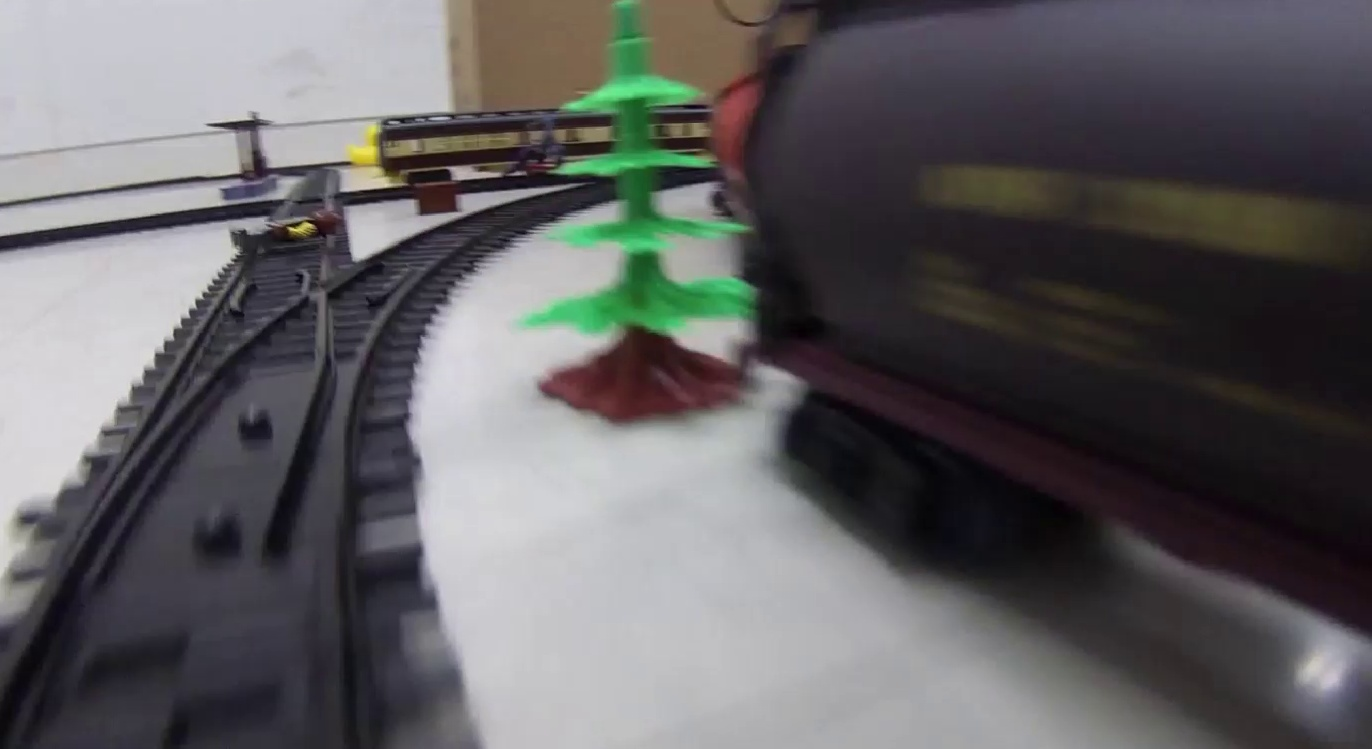tree: (525, 4, 752, 418)
